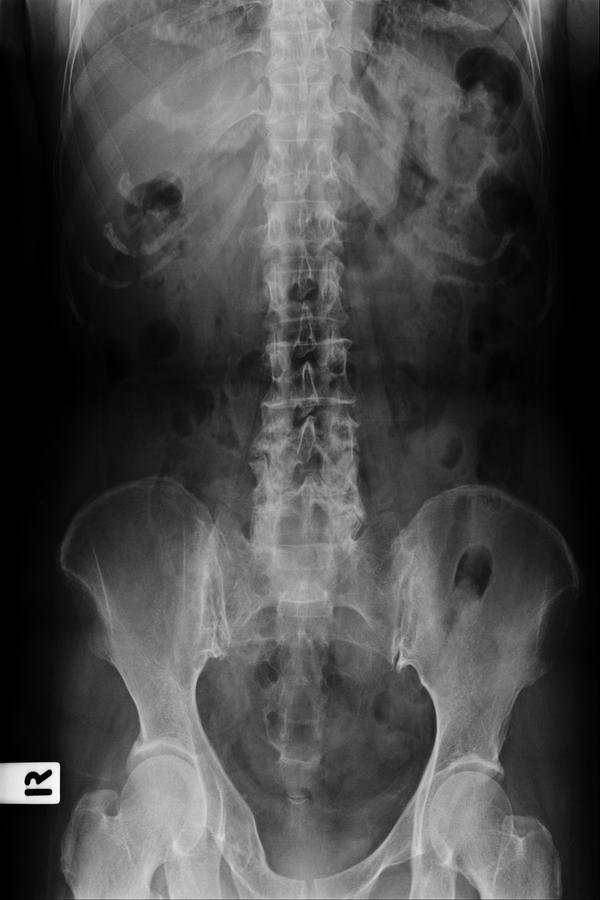lumbar scoliosis: (248, 204, 365, 568)
